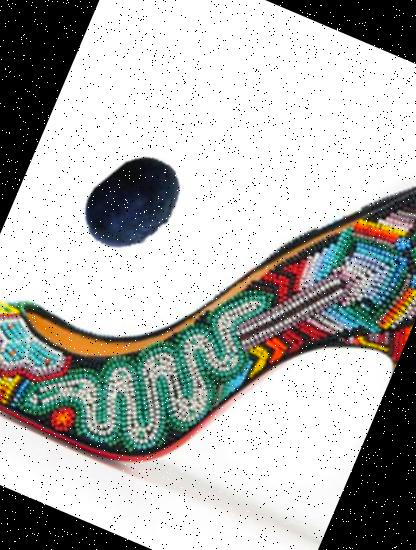Blueberry: (63, 134, 202, 274)
